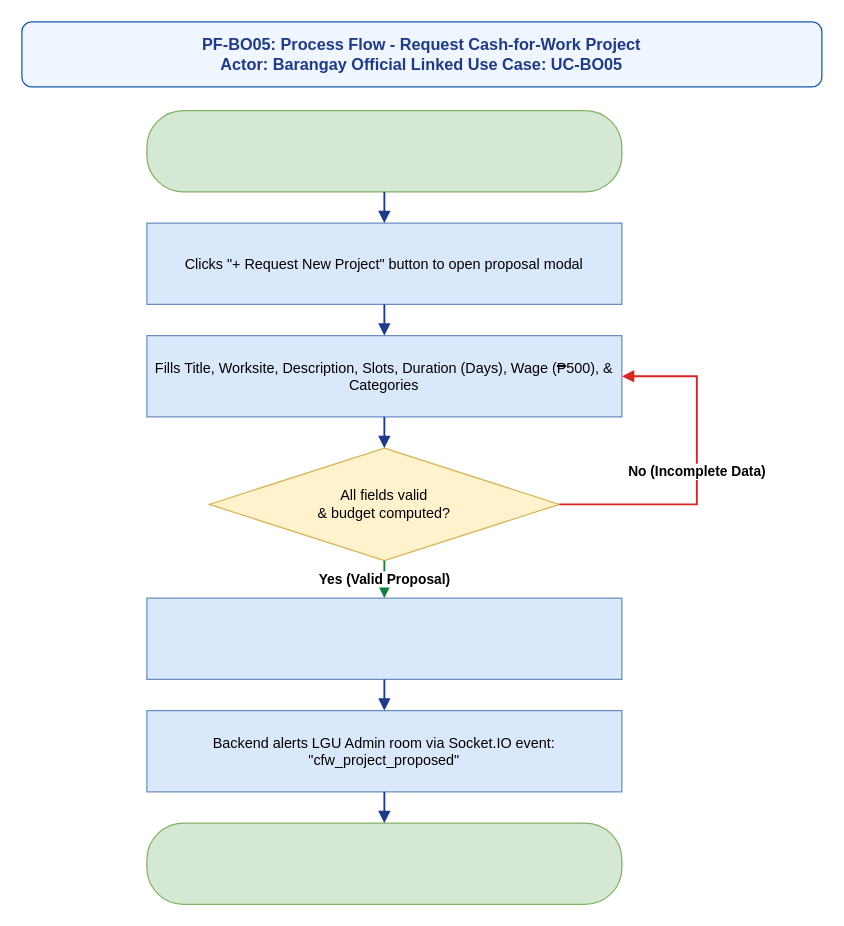
Image size: 844x926. Some labels were removed from this diagram. Here are the shapes that lost their labels. From the top down, the centre of each, then its label:
[384,150]: START: Barangay Official opens LivelihoodAssistance.jsx
[384,638]: Submits POST /api/cash-for-work/projects/request; status: "pending_lgu_approval"
[384,863]: END: Proposal submitted to LGU for budget authorization in PF-LA03
